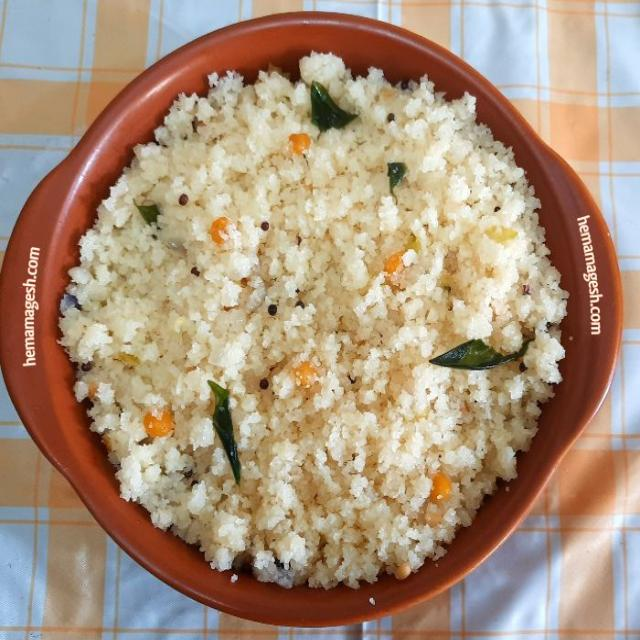upma: (44, 33, 580, 604)
